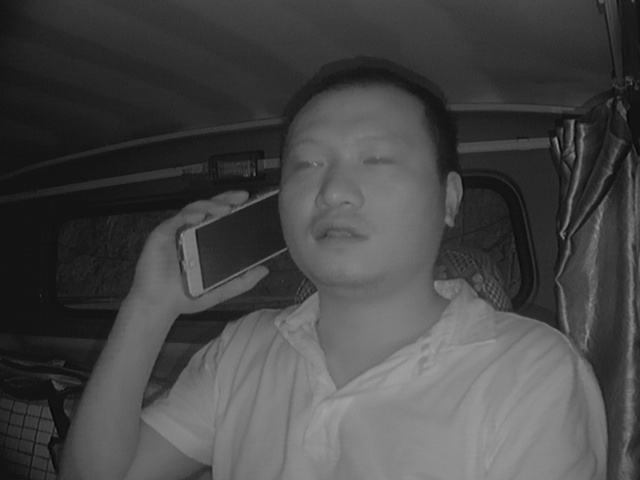hand: (139, 186, 270, 313)
